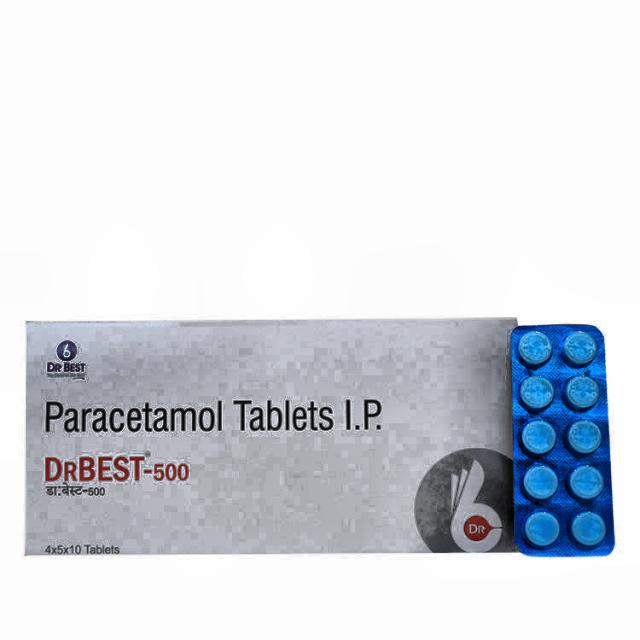Paracetamol: (43, 393, 390, 478)
